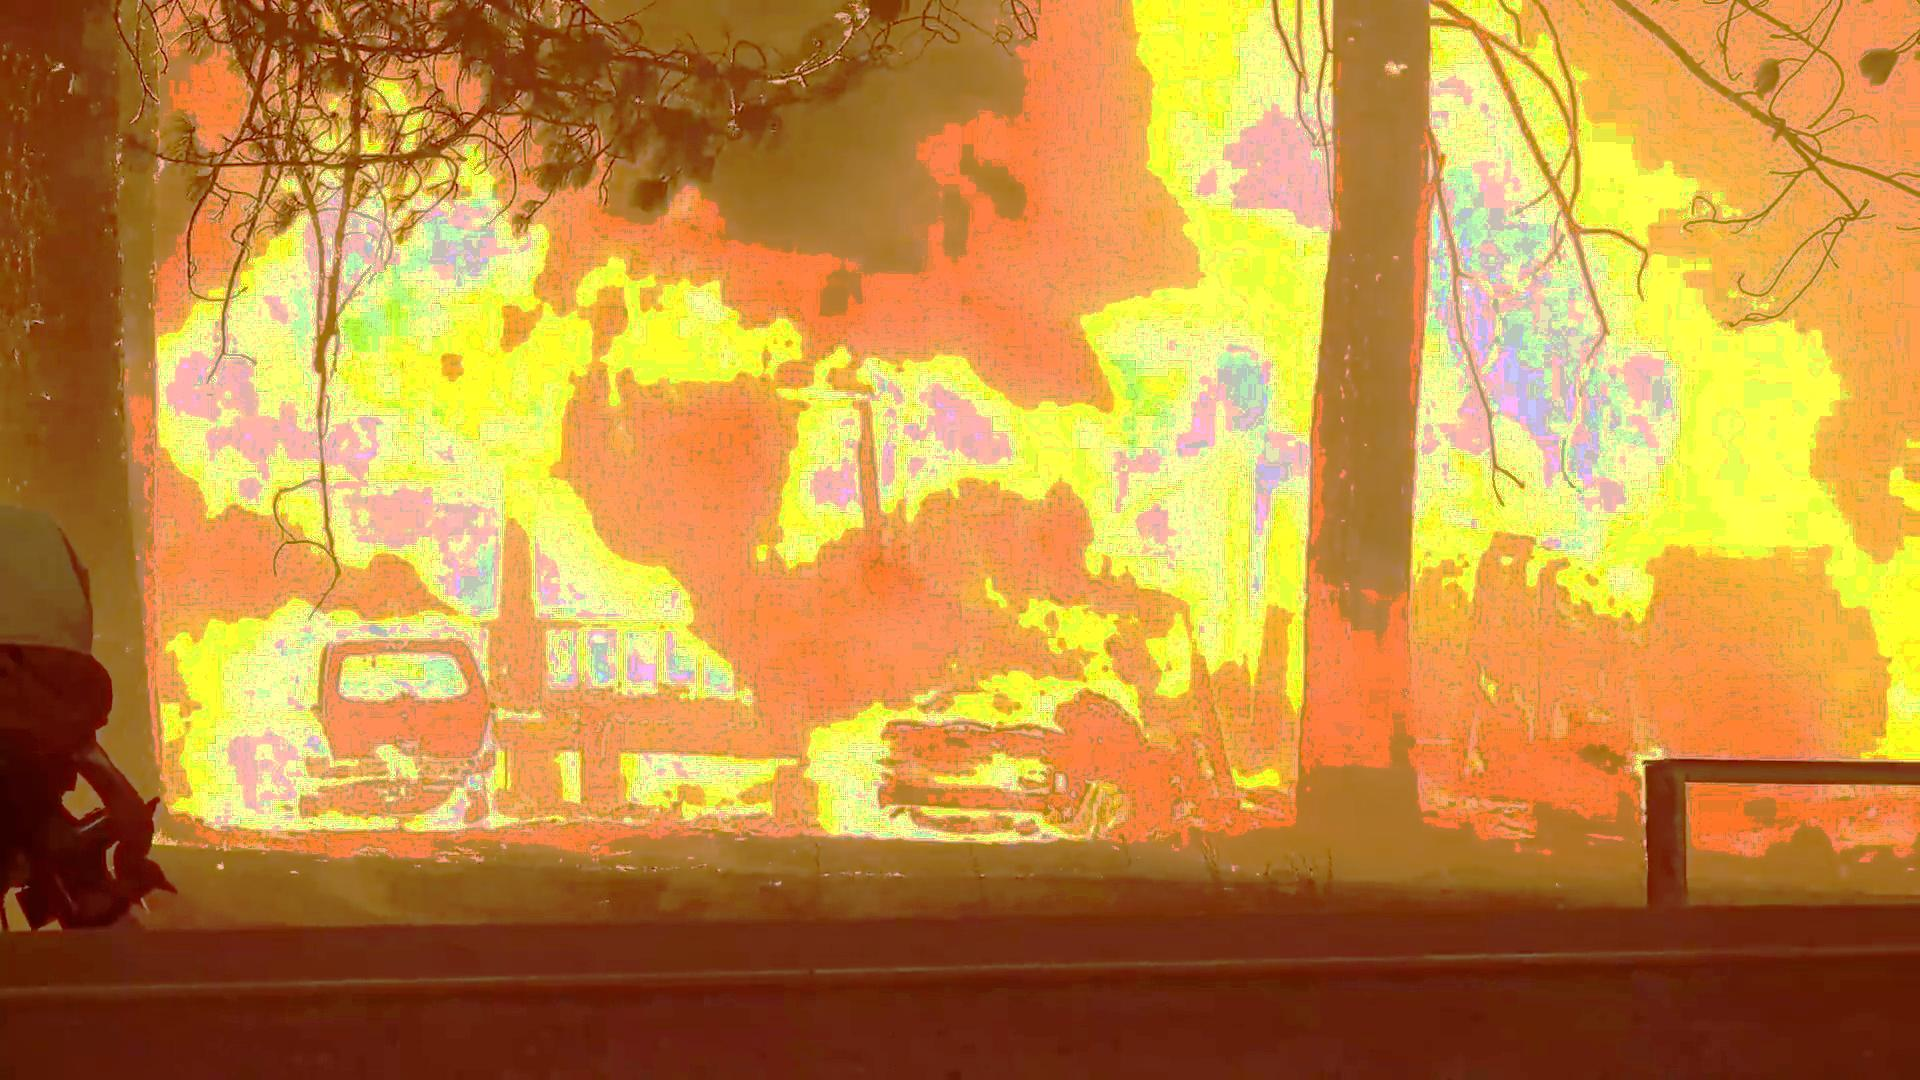fire: (807, 574, 1118, 852), (173, 613, 498, 851)
